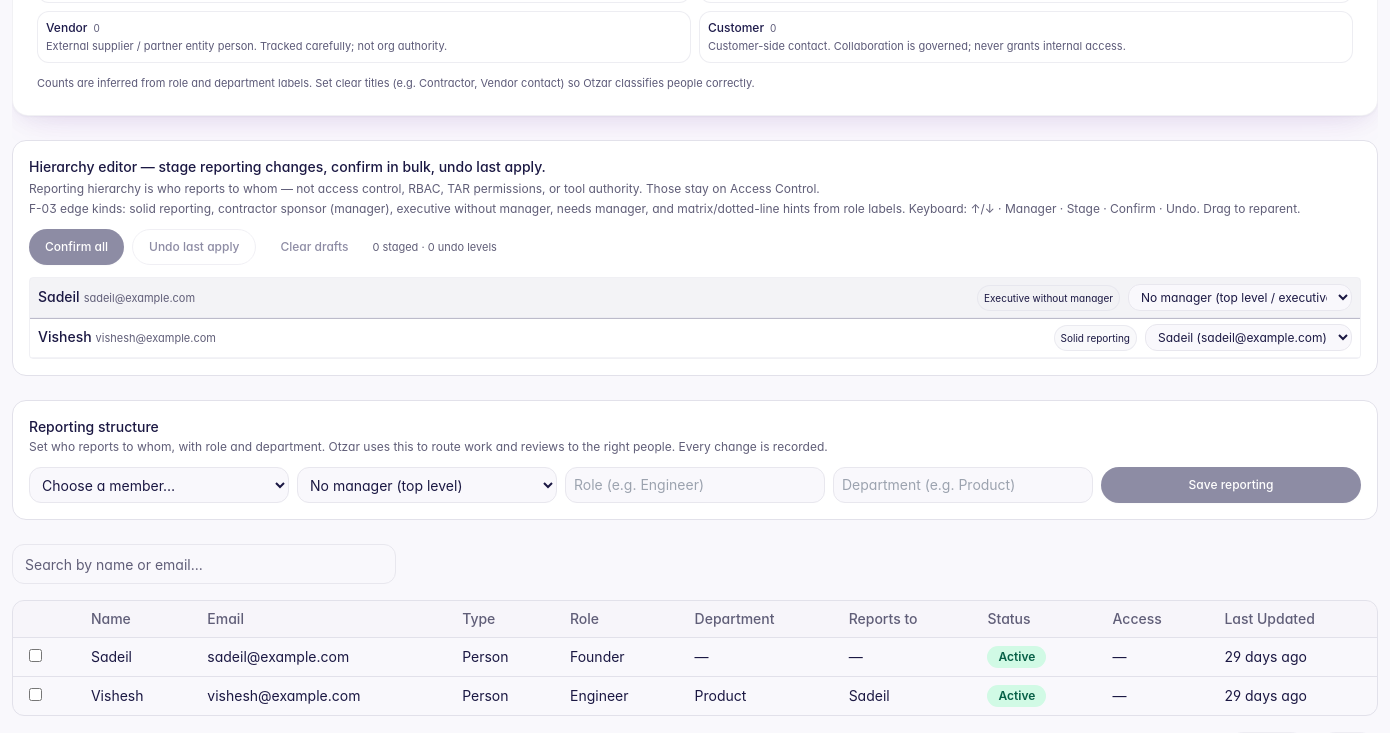
Members — reporting structure editor (PROD-UX-HIER) › assigns a manager with role+department and reports the outcome in words
(page scrolled)
Expected: the element with test id "reporting-card" is shown, [12,400,1378,520]
Expected: the text "Engineer" is shown, [554,676,679,715]
Step 1. Select "Vishesh (vishesh@example.com)" in the dropdown with test id "reporting-person-select" → (159, 485), box [29,467,289,503]
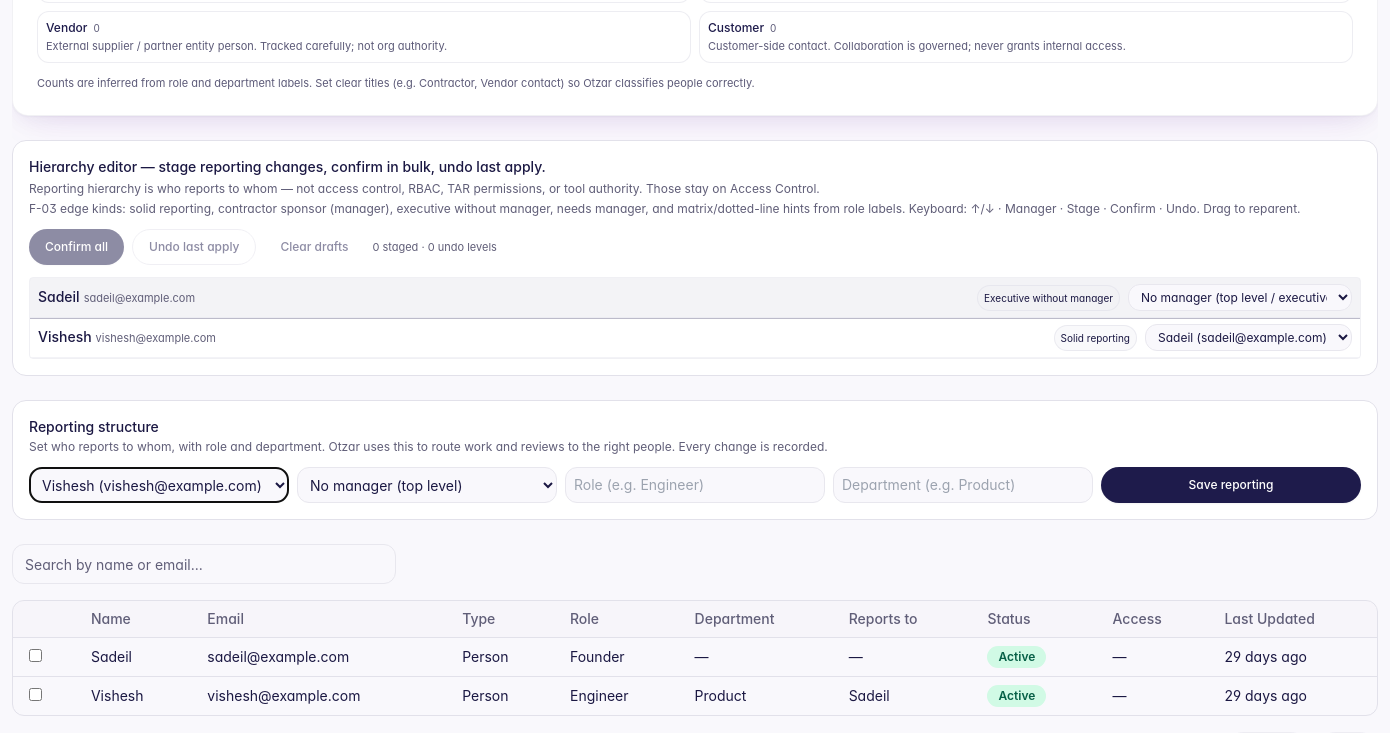
Step 2. Select "Sadeil (sadeil@example.com)" in the dropdown with test id "reporting-manager-select" → (427, 485), box [297,467,557,503]
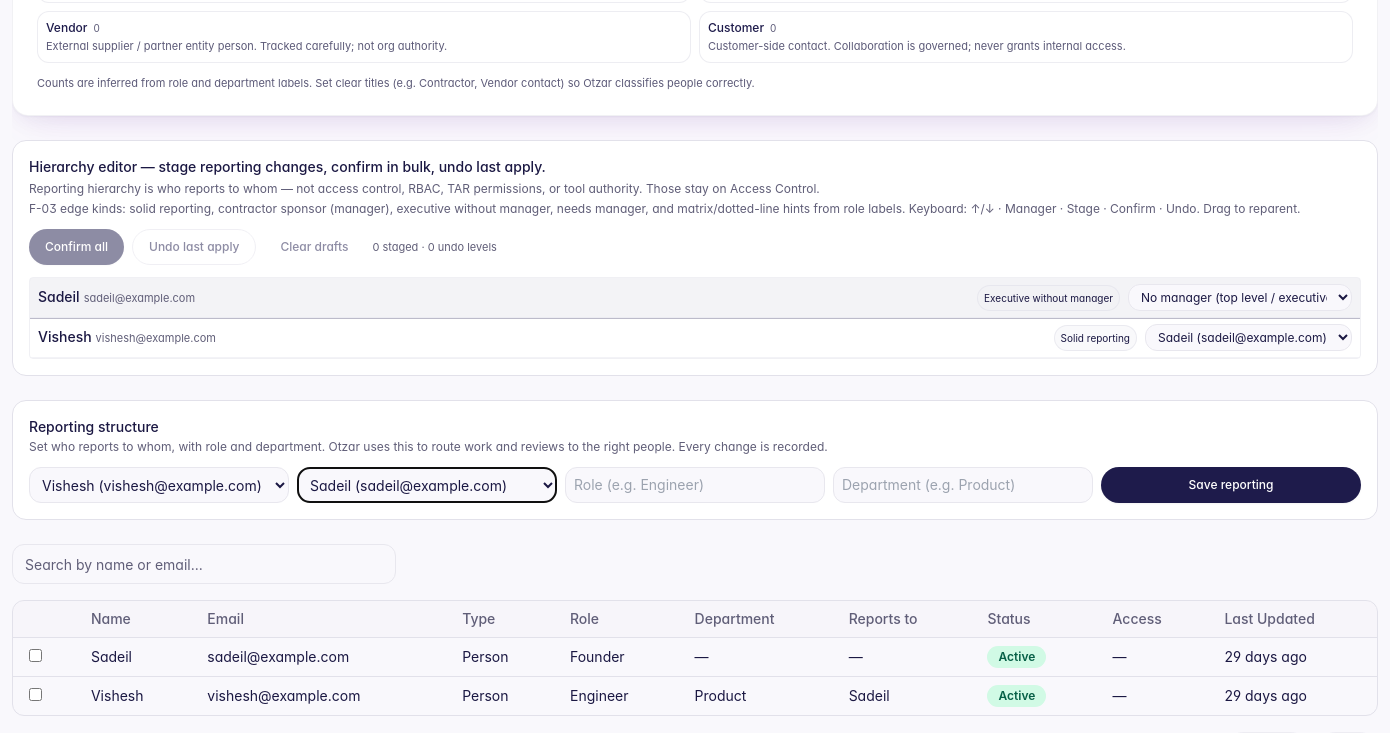
Step 3. Type "Staff Engineer" into the field with test id "reporting-role-input" → (695, 485), box [565,467,825,503]
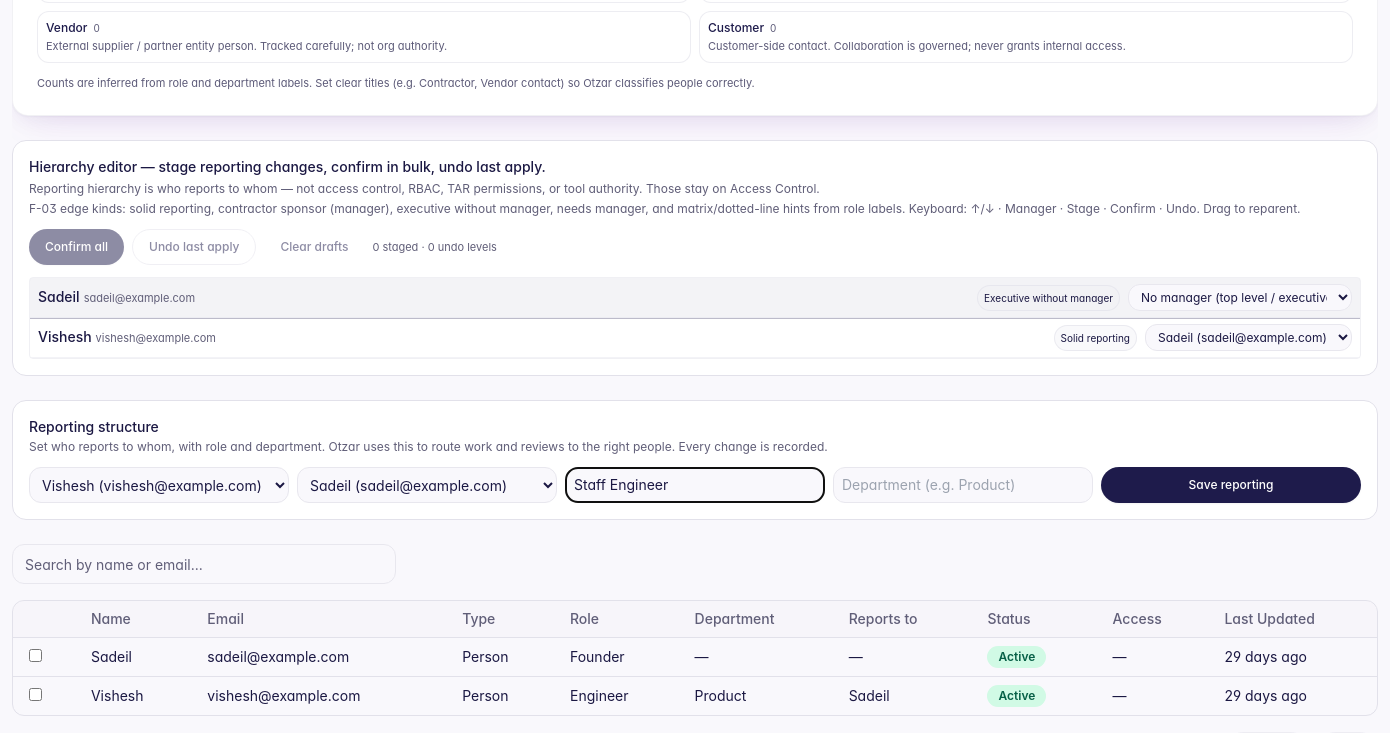
Step 4. Type "Platform" into the field with test id "reporting-department-input" → (963, 485), box [833,467,1093,503]
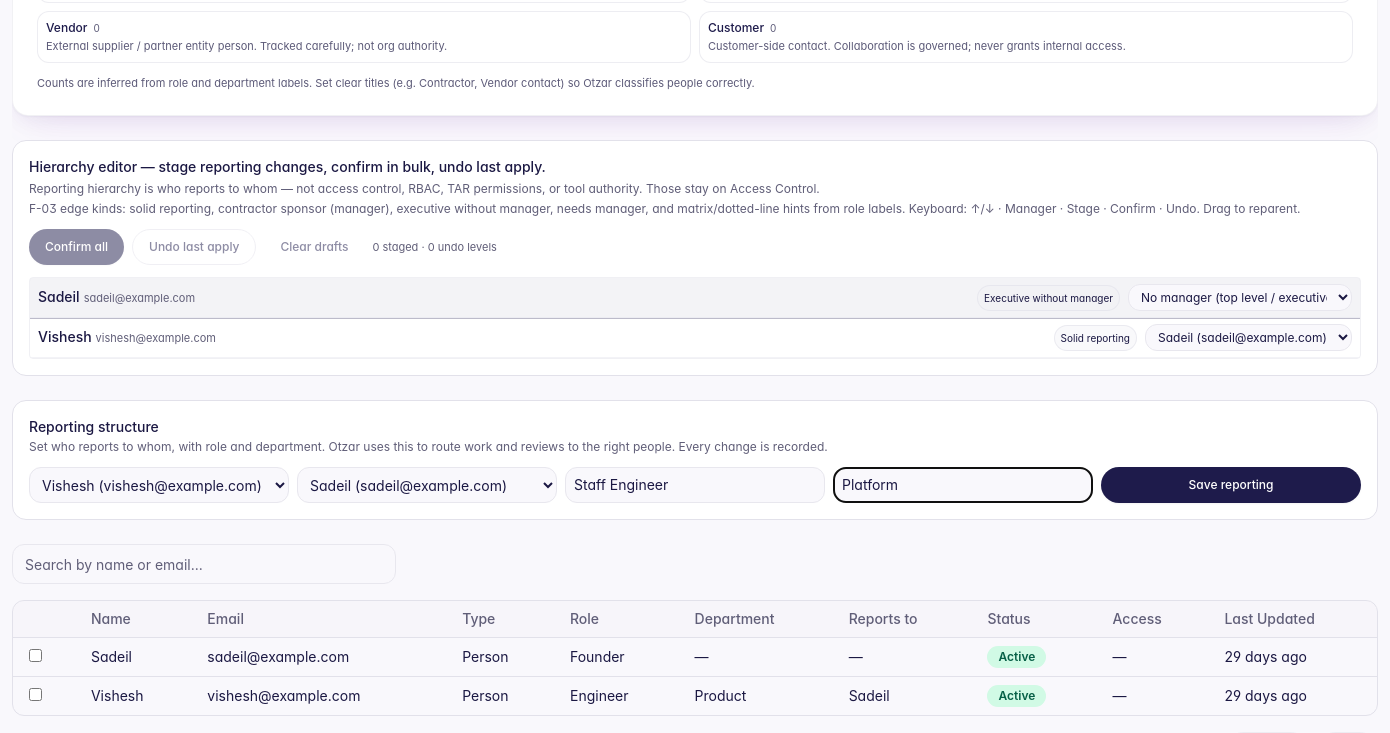
Step 5. Click the button with test id "reporting-assign" → (1231, 485), box [1101,467,1361,503]
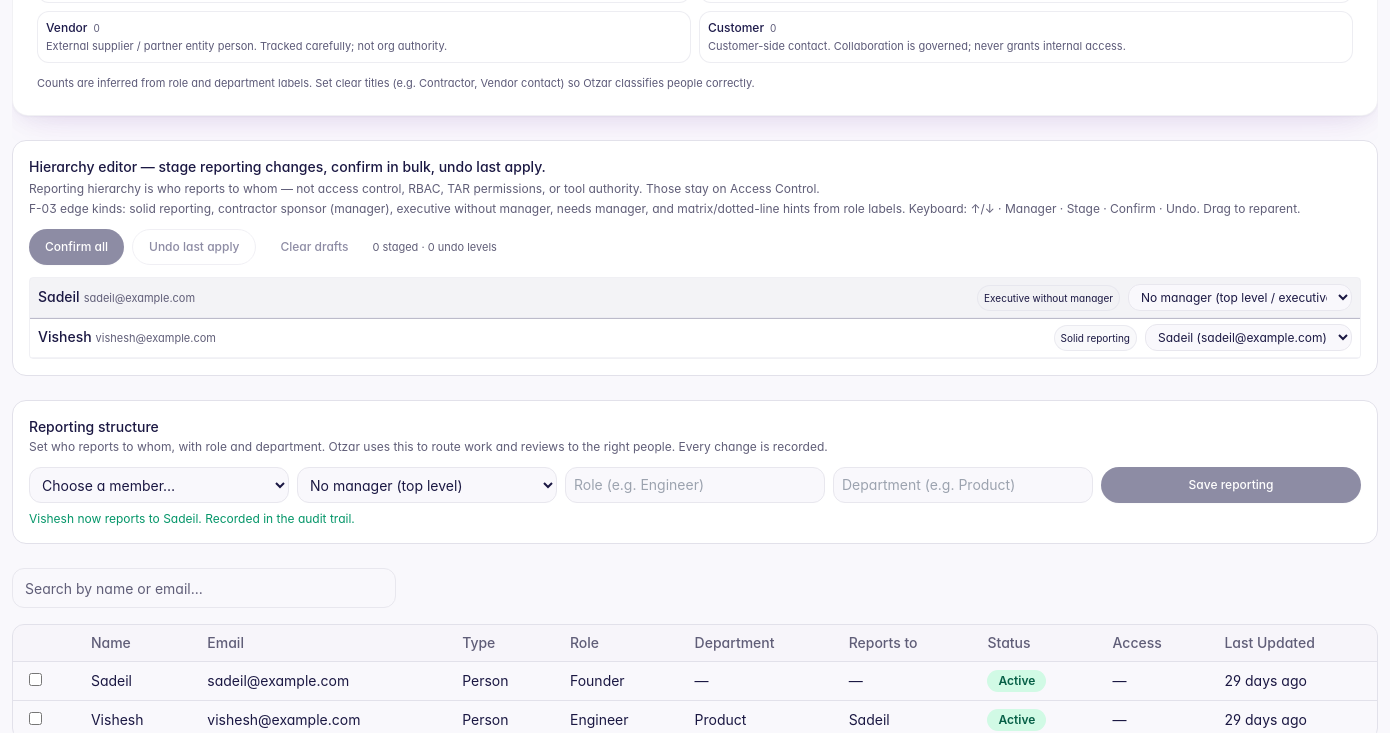
Result: the text with test id "reporting-notice" shows "Vishesh now reports to Sadeil" at [29,511,355,526]
Result: the text with test id "reporting-notice" shows "audit trail" at [29,511,355,526]
